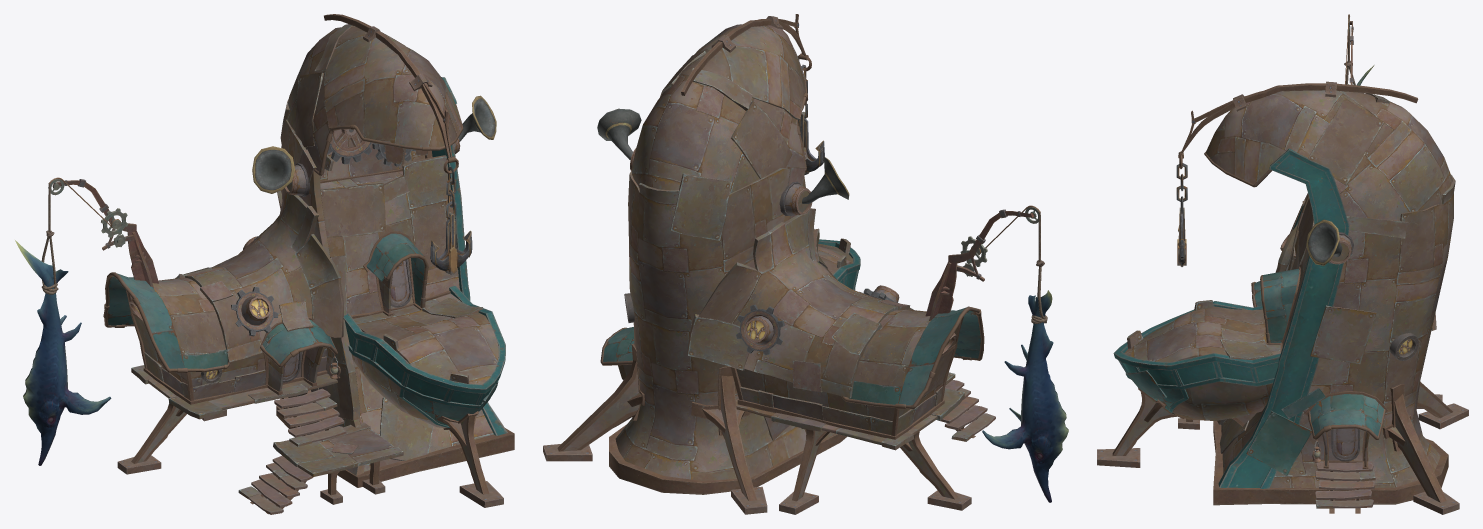
Rendered from Homeworld_Exterior_Fd_Build_BszPochuan_01_Lod0.fbx.
The picture shows the model from 3 angles, left to right: view 1: azimuth 30°, elevation 25°; view 2: azimuth 150°, elevation 25°; view 3: azimuth 270°, elevation 25°; orthographic projection. The views are drawn at different scales.
Visible parts, largest first — view 1: Area_Fd_Build_YSZ_Pochuan_04_Lod0(Clone), Area_Fd_Build_YSZ_Pochuan_01_Lod0(Clone), Area_Fd_Prop_YSZ_Dayu_03_Lod0(Clone), Area_Fd_Prop_YSZ_Diaogan_02_Lod0(Clone), Area_Fd_Build_YSZ_Mao_01_Lod0(Clone), Area_Fd_Prop_YSZ_Chilun_01_Lod0(Clone); view 2: Area_Fd_Build_YSZ_Pochuan_04_Lod0(Clone), Area_Fd_Build_YSZ_Pochuan_01_Lod0(Clone), Area_Fd_Prop_YSZ_Dayu_03_Lod0(Clone), Area_Fd_Prop_YSZ_Diaogan_02_Lod0(Clone), Area_Fd_Build_YSZ_Mao_01_Lod0(Clone); view 3: Area_Fd_Build_YSZ_Pochuan_04_Lod0(Clone), Area_Fd_Build_YSZ_Pochuan_01_Lod0(Clone), Area_Fd_Build_YSZ_Mao_01_Lod0(Clone).
Boxes of the visible parts, box(x1,y1,x2,y2) form: Area_Fd_Build_YSZ_Pochuan_04_Lod0(Clone): box(252, 14, 514, 507); Area_Fd_Build_YSZ_Pochuan_01_Lod0(Clone): box(103, 189, 403, 514); Area_Fd_Prop_YSZ_Dayu_03_Lod0(Clone): box(15, 183, 111, 465); Area_Fd_Prop_YSZ_Diaogan_02_Lod0(Clone): box(48, 177, 158, 288); Area_Fd_Build_YSZ_Mao_01_Lod0(Clone): box(430, 167, 472, 274); Area_Fd_Prop_YSZ_Chilun_01_Lod0(Clone): box(327, 129, 372, 164); Area_Fd_Build_YSZ_Pochuan_04_Lod0(Clone): box(543, 14, 860, 514); Area_Fd_Build_YSZ_Pochuan_01_Lod0(Clone): box(687, 208, 995, 514); Area_Fd_Prop_YSZ_Dayu_03_Lod0(Clone): box(982, 211, 1068, 502); Area_Fd_Prop_YSZ_Diaogan_02_Lod0(Clone): box(925, 205, 1040, 320); Area_Fd_Build_YSZ_Mao_01_Lod0(Clone): box(798, 64, 824, 175); Area_Fd_Build_YSZ_Pochuan_04_Lod0(Clone): box(1097, 81, 1468, 514); Area_Fd_Build_YSZ_Pochuan_01_Lod0(Clone): box(1178, 193, 1442, 429); Area_Fd_Build_YSZ_Mao_01_Lod0(Clone): box(1176, 163, 1187, 266).
Size of what is drawn, in the model's own units: 24.73 by 20.19 by 17.67.
